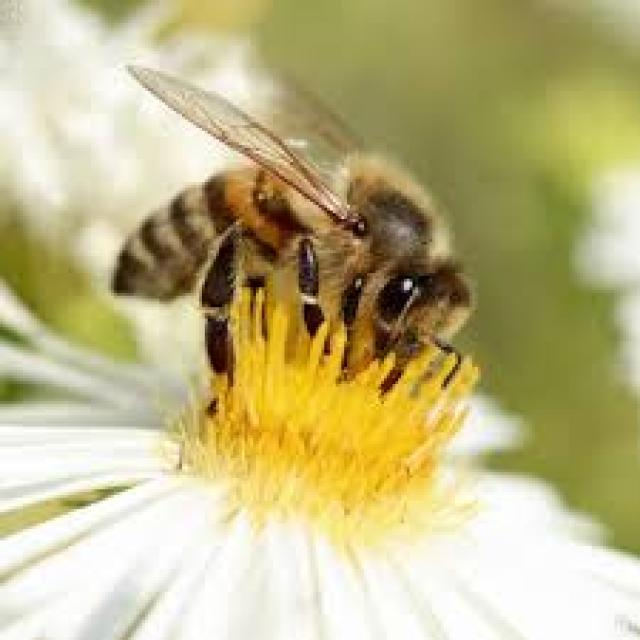Bees: (108, 60, 474, 413)
